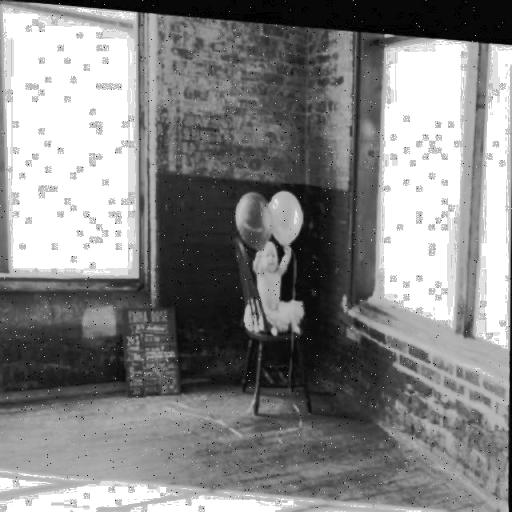balloon: (232, 182, 274, 252), (268, 184, 307, 247)
